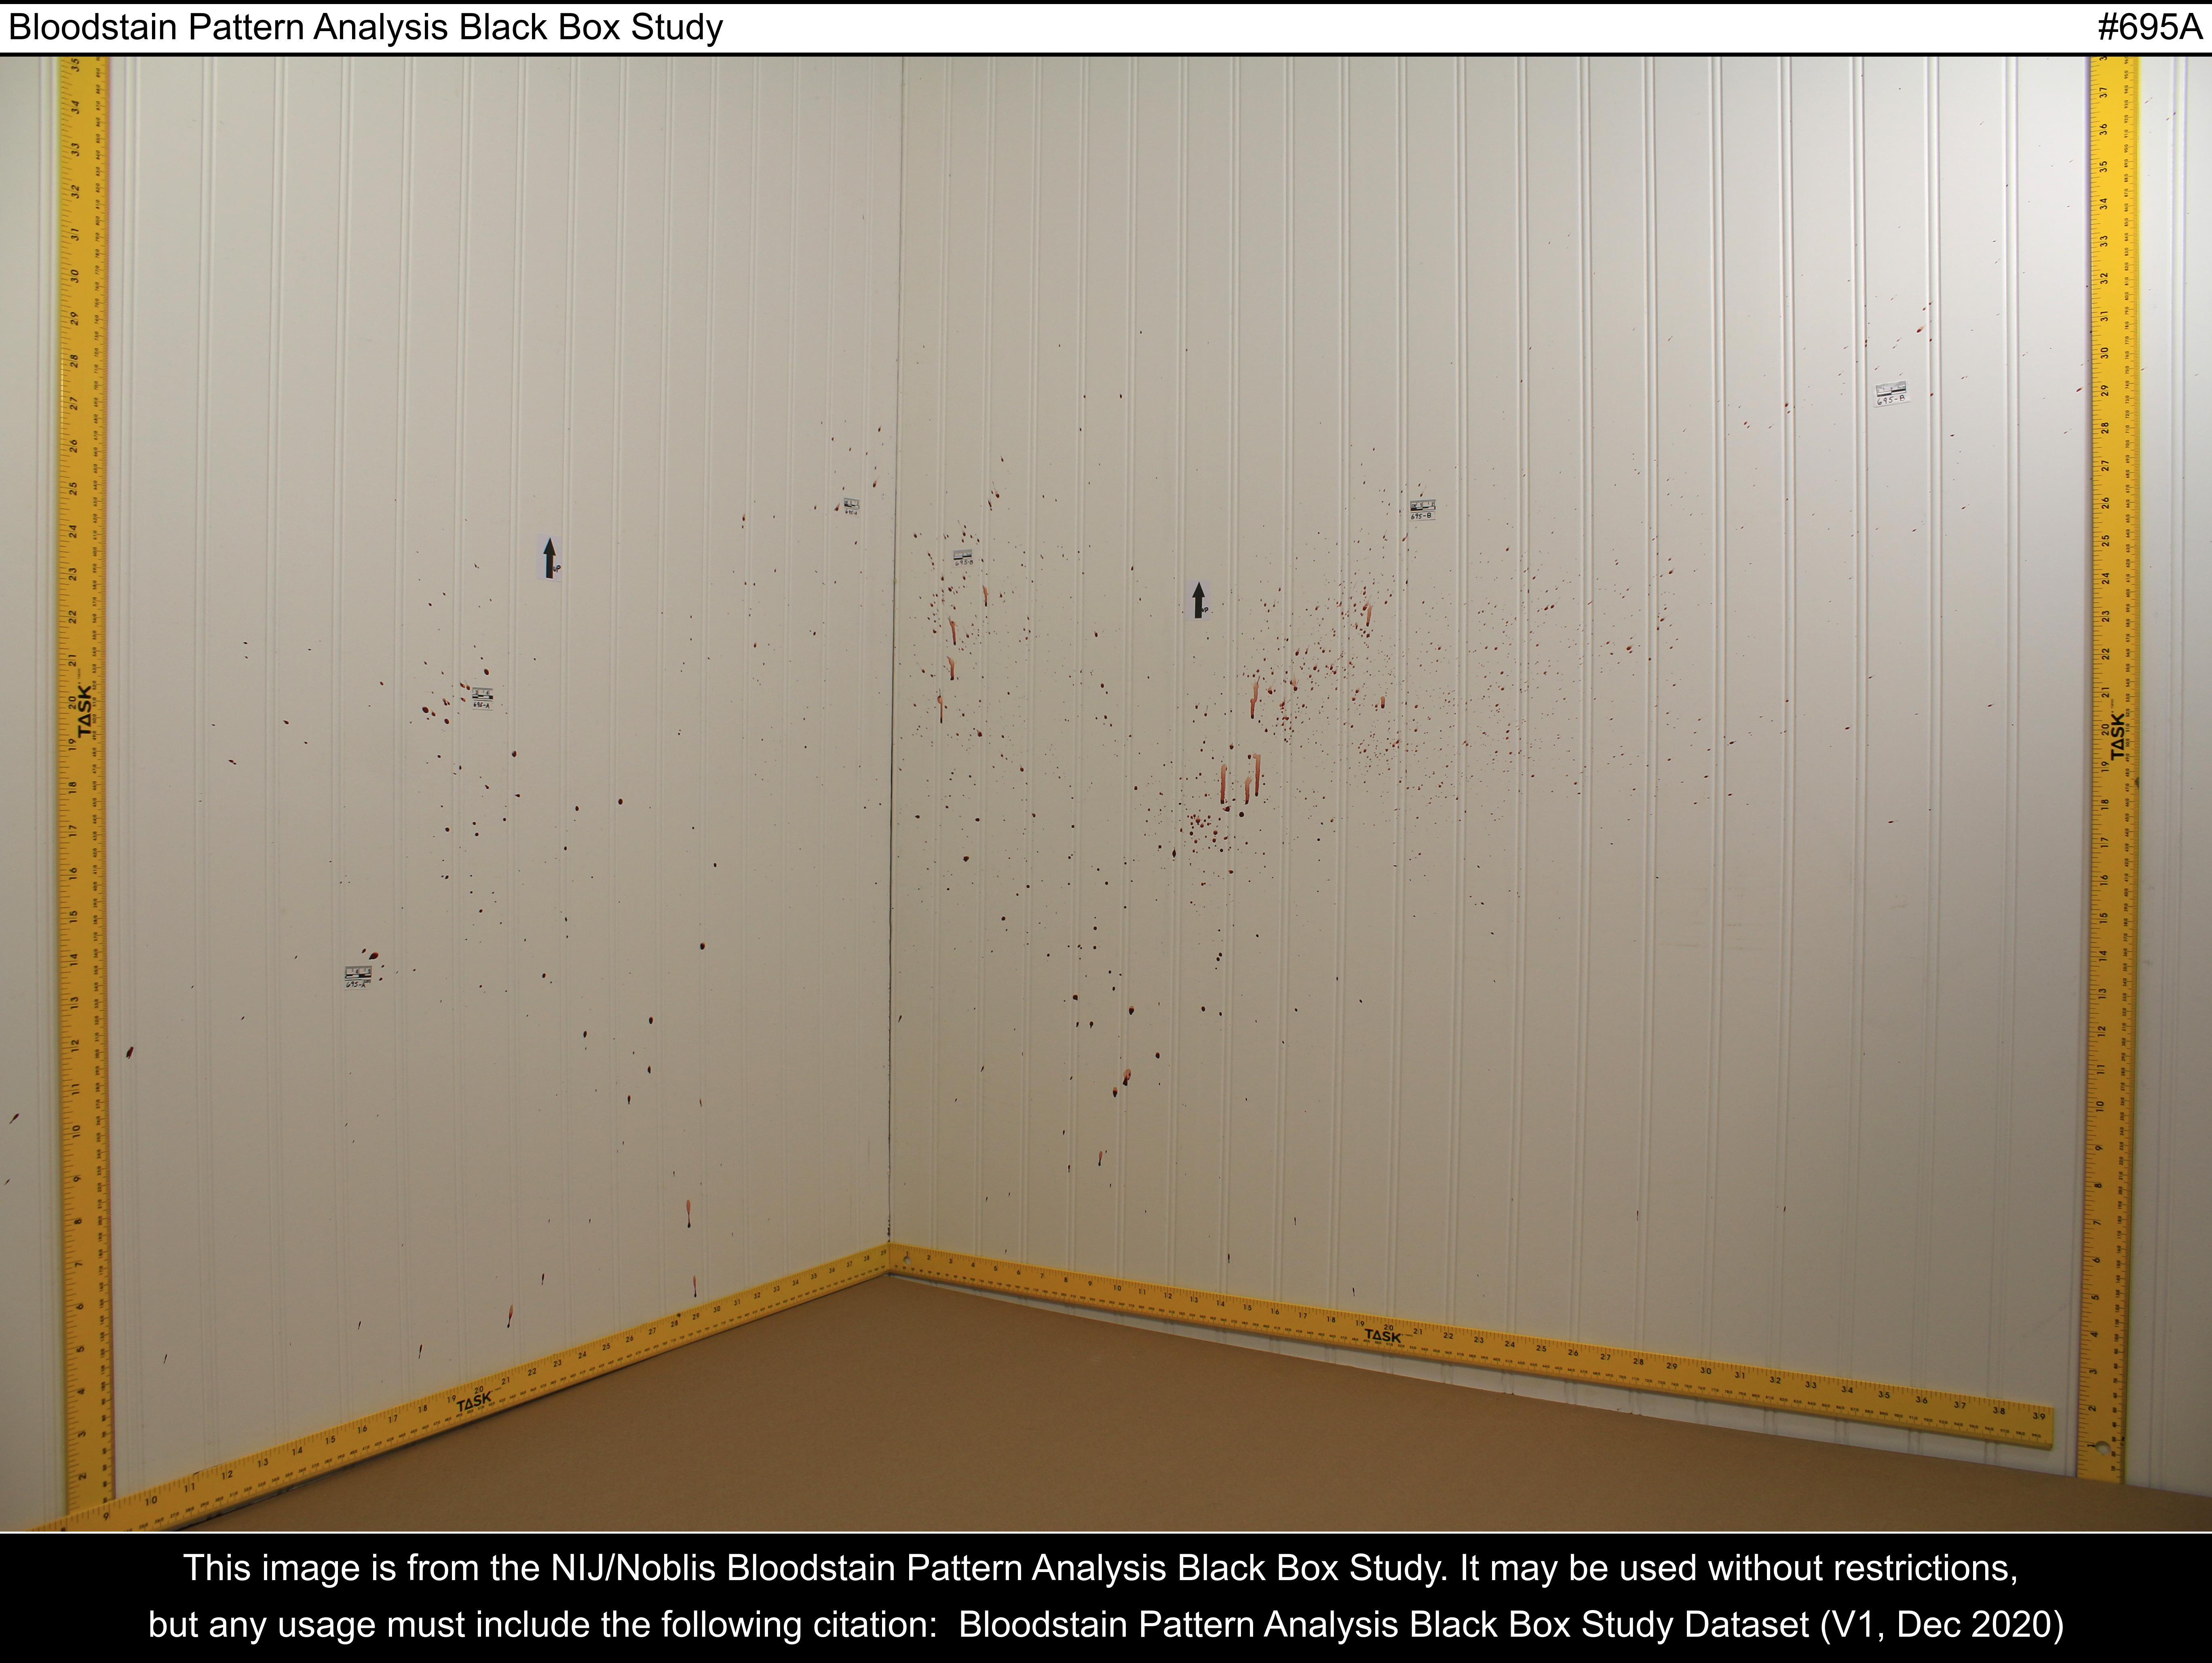Impact: (911, 440, 1449, 1232), (311, 496, 740, 1300)
